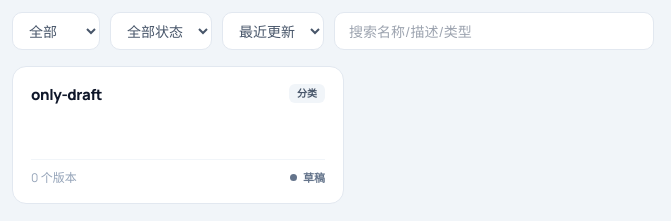
Test: ModelList › 筛选无结果 → 空态 + 清除筛选恢复
This screenshot has width=671, height=221.
Check: the text "only-draft" is shown, box [31, 84, 102, 106]
Select "就绪" in the dropdown with test id "filter-status" at (161, 31), box [110, 12, 212, 50]
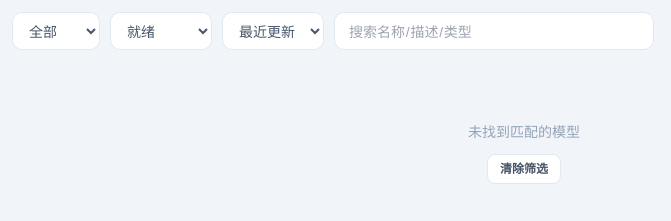
Check: the element with test id "list-empty" is shown, box [468, 122, 580, 184]
Check: the link with test id "model-item" is gone
Click the button with test id "clear-filters" at (524, 169), box [487, 154, 561, 184]
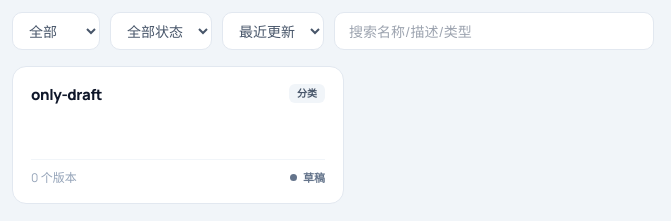
Check: the text "only-draft" is shown, box [31, 84, 102, 106]
